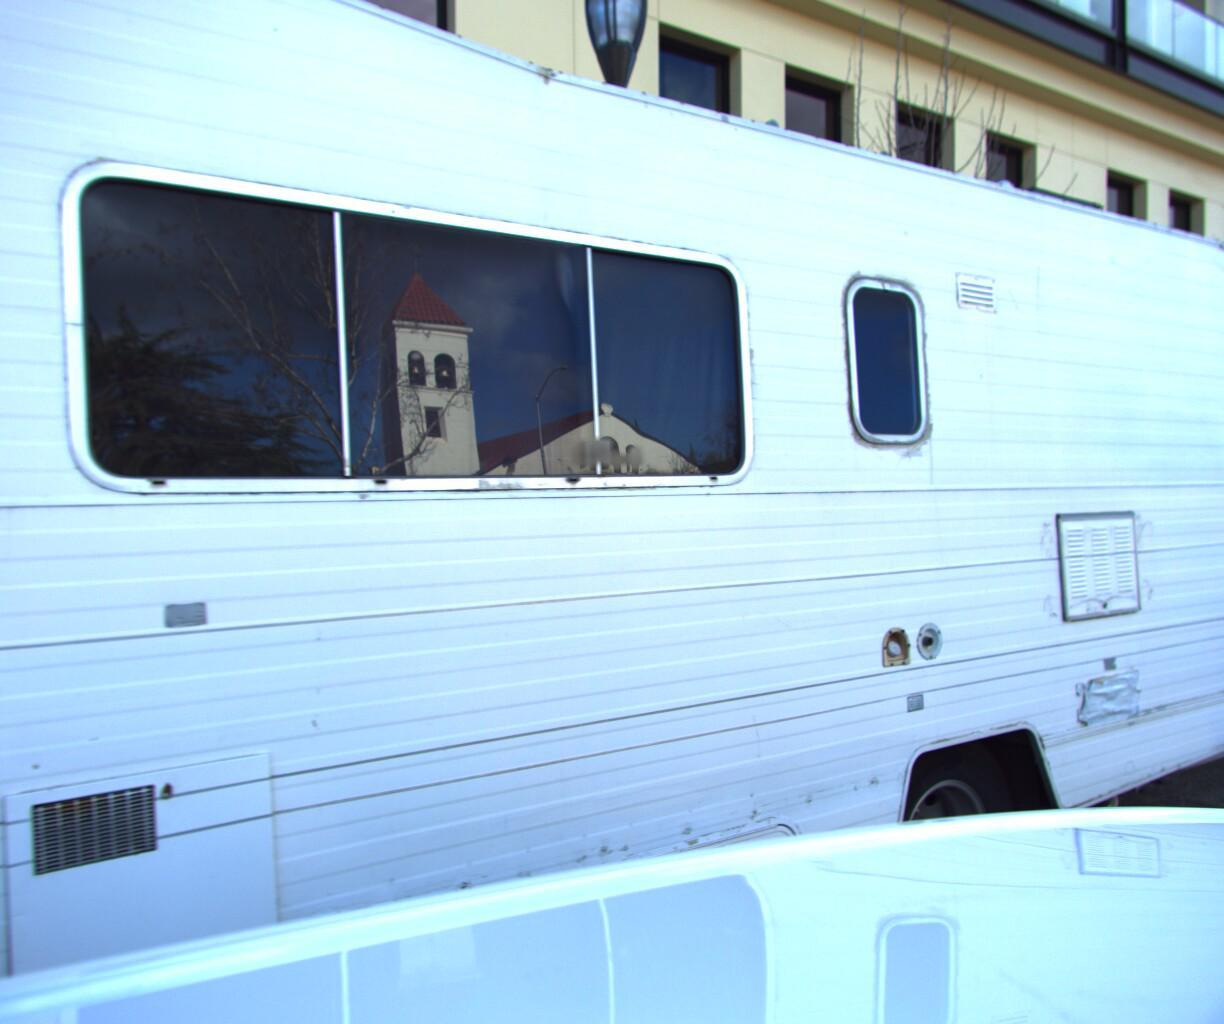car: (1080, 513, 1224, 776)
other_vehicle: (0, 0, 1224, 1024)
